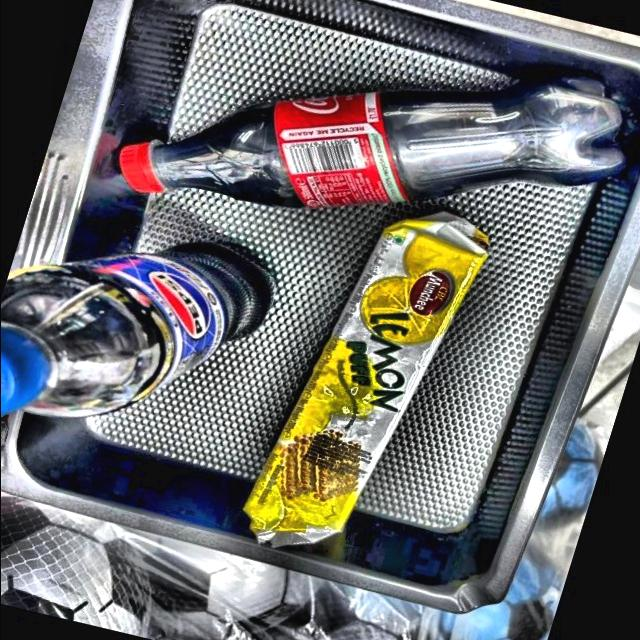coke-bottle: (119, 69, 636, 210)
lemon puff: (238, 212, 490, 544)
pepsi-bottle: (0, 240, 277, 423)
